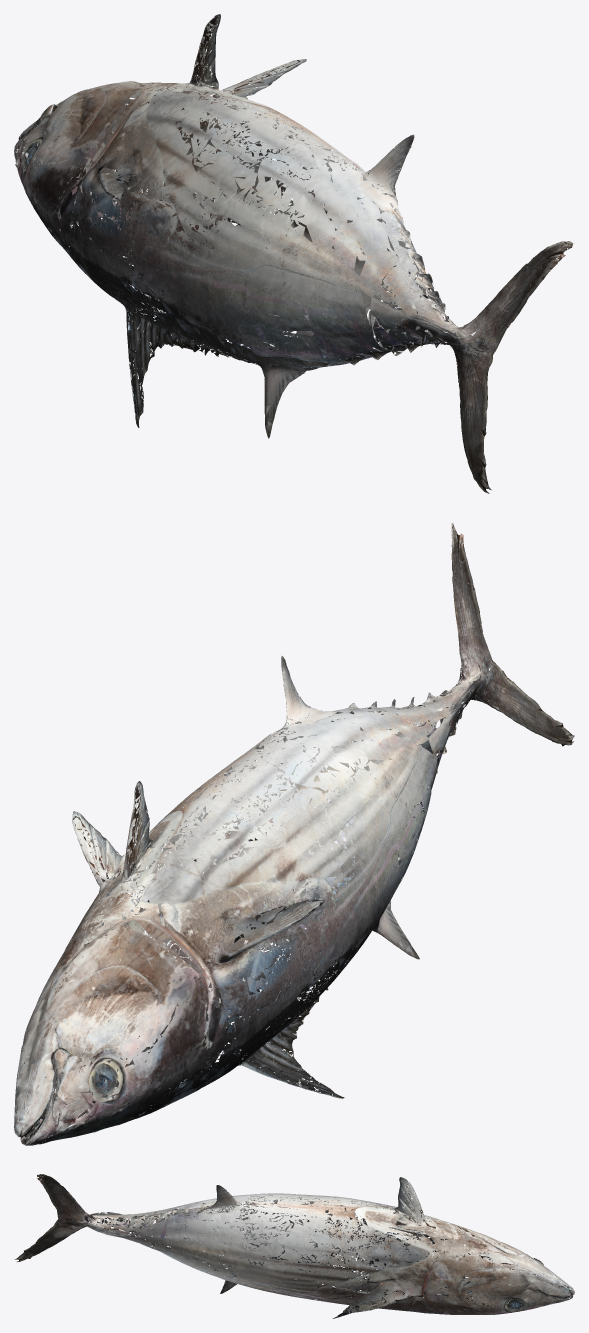
Rendered from skipjack.glb.
The picture shows the model from 3 angles, top to bottom: view 1: azimuth 30°, elevation 25°; view 2: azimuth 150°, elevation 25°; view 3: azimuth 270°, elevation 25°; orthographic projection. The views are drawn at different scales.
Parts seen in each view (by area): view 1: skipjack; view 2: skipjack; view 3: skipjack.
Boxes of the visible parts, x1=… form: skipjack: x1=14, y1=14, x2=572, y2=493; skipjack: x1=14, y1=523, x2=574, y2=1145; skipjack: x1=14, y1=1174, x2=574, y2=1318.
Bounding box in the file's own units: 0.5938 × 0.8838 × 2.4.
3 materials, 3 textured.
